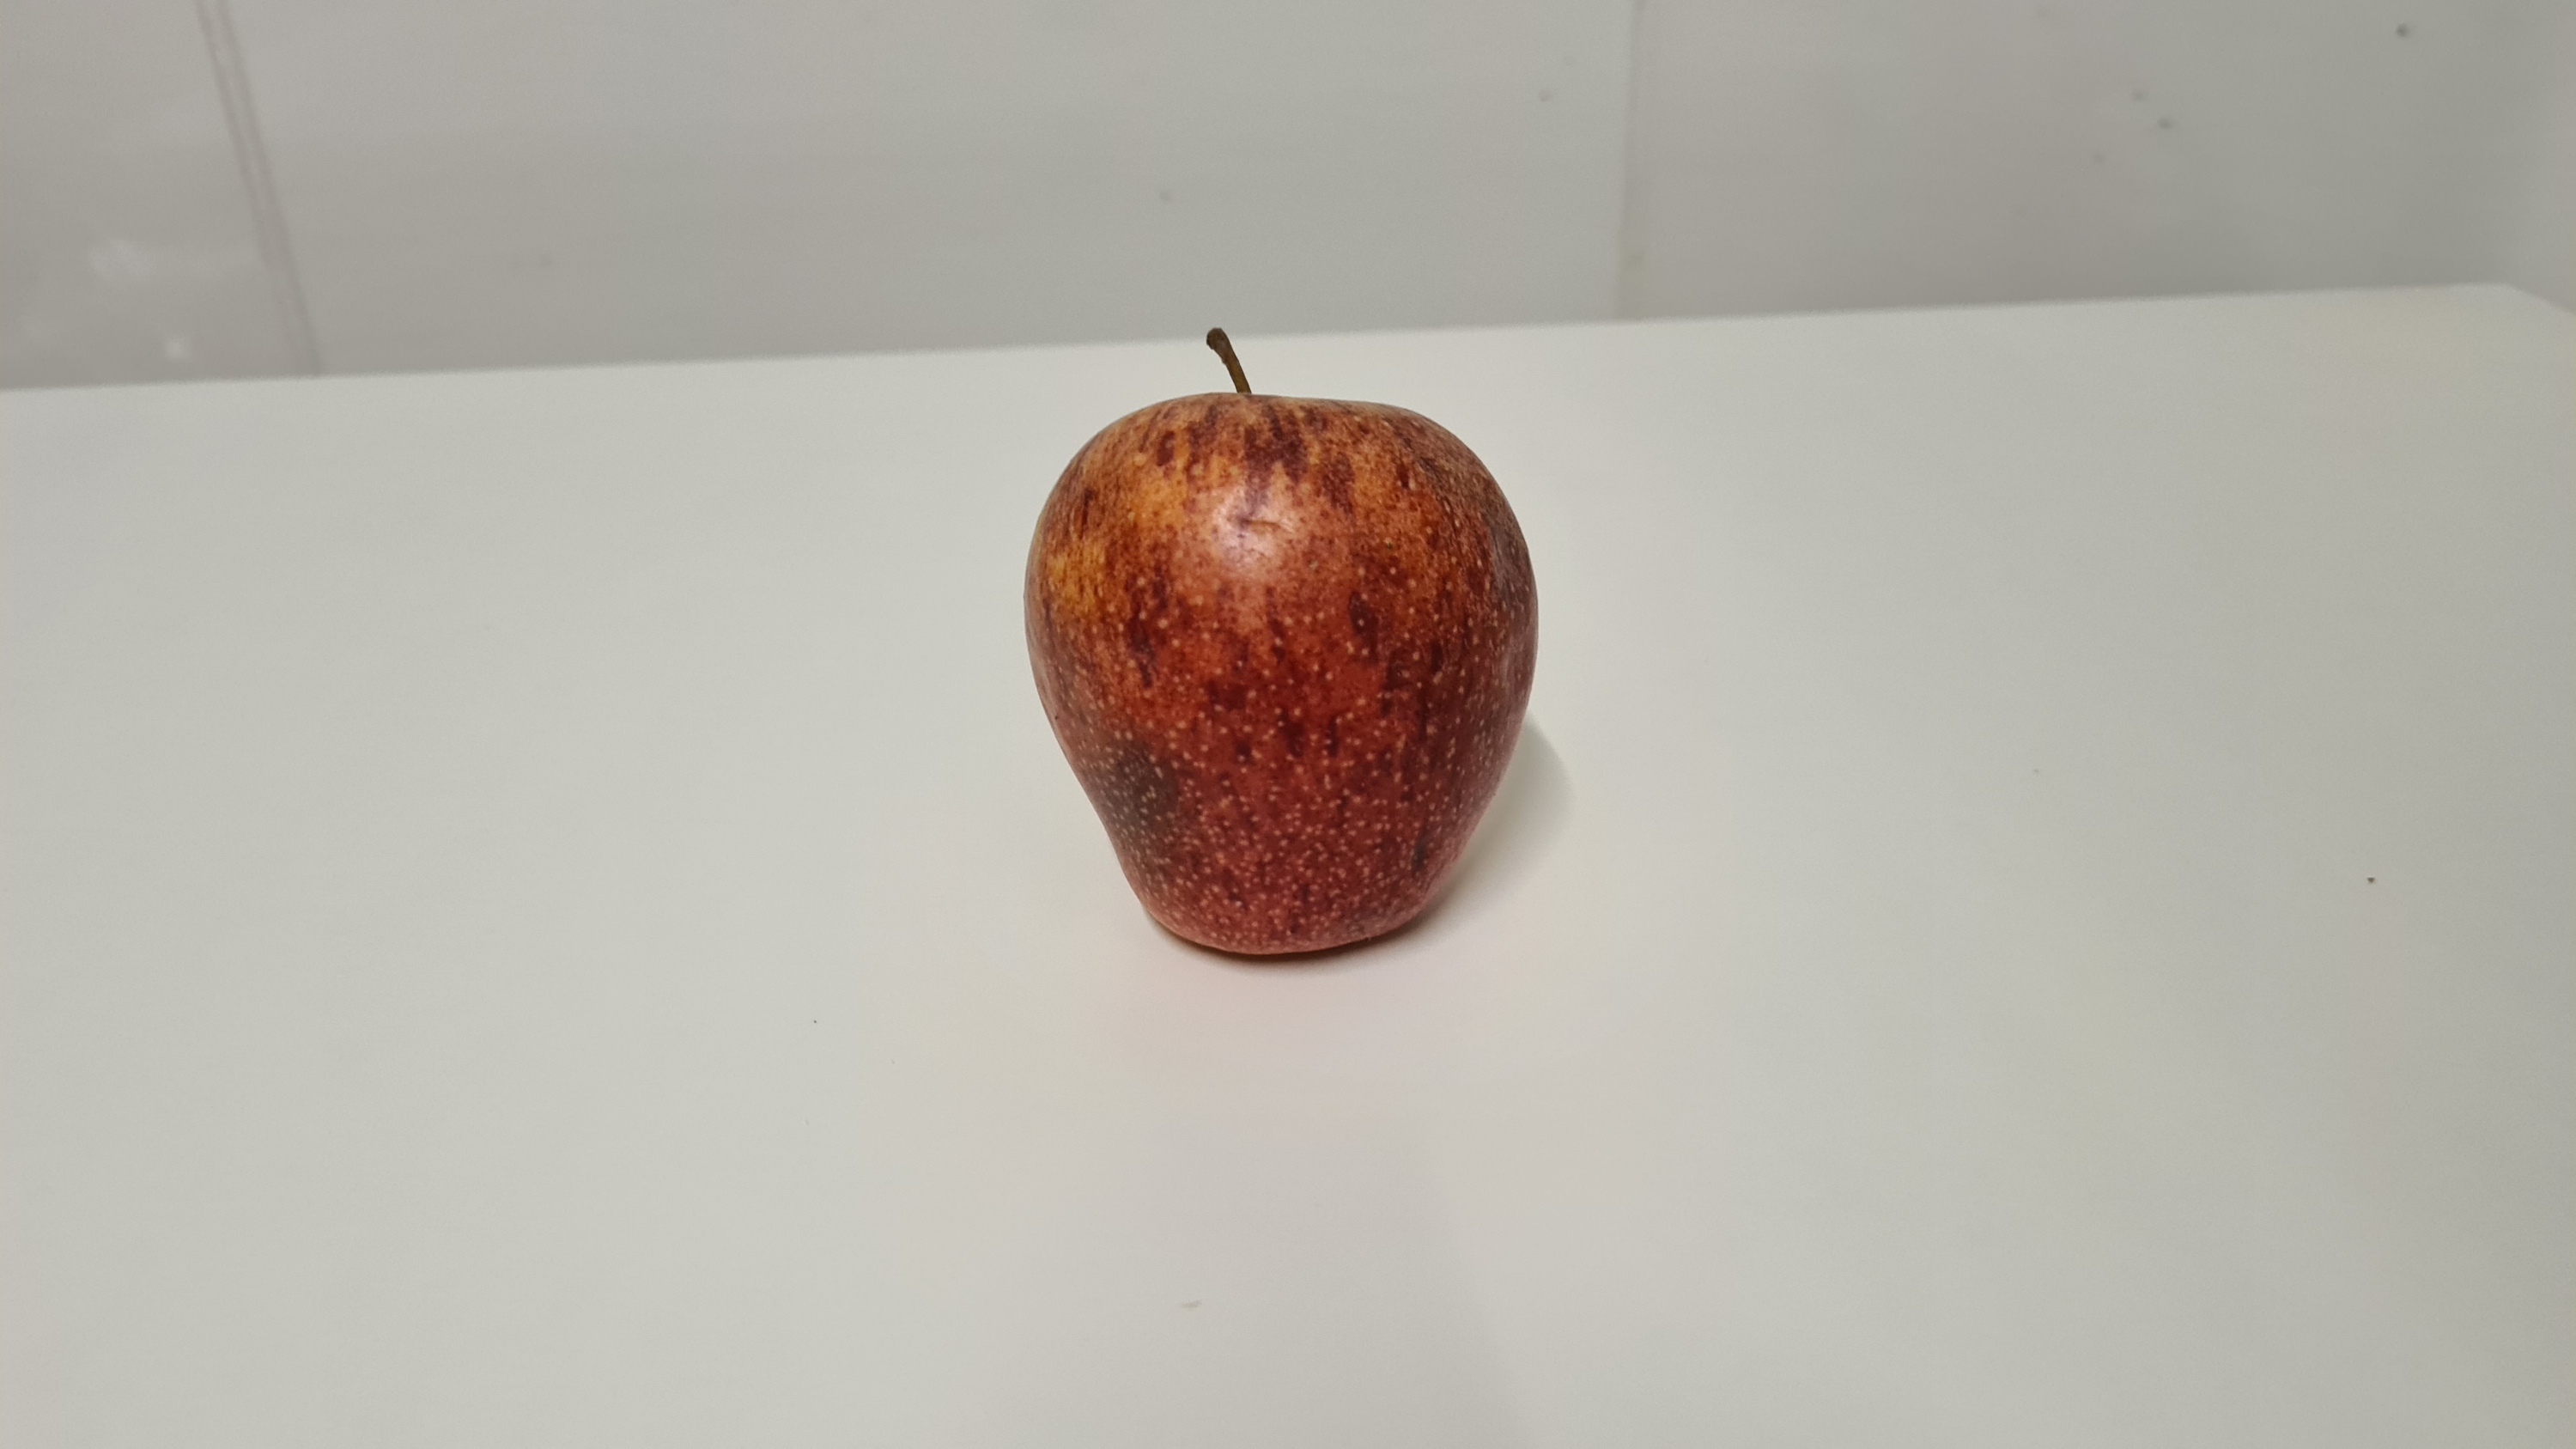Apple: (1012, 320, 1564, 971)
